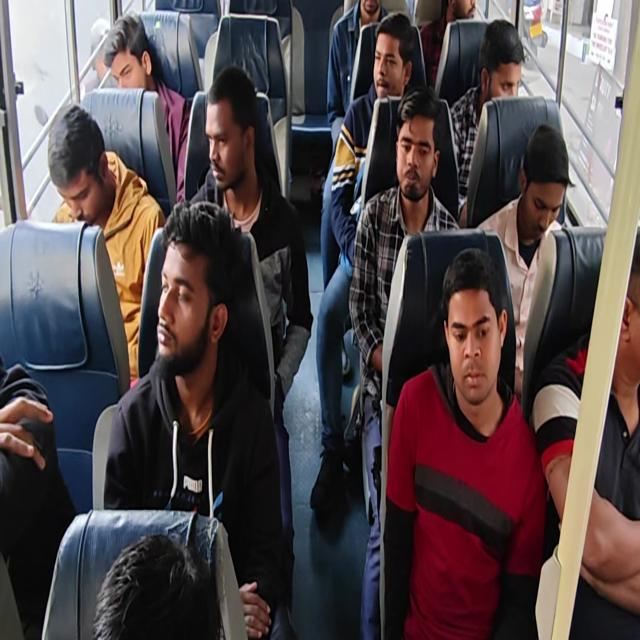person: (2, 1, 638, 638), (102, 199, 286, 638), (186, 66, 313, 616), (380, 246, 547, 638), (348, 85, 460, 637), (310, 10, 418, 515), (531, 226, 639, 638), (47, 104, 166, 386), (475, 122, 575, 401), (329, 10, 417, 266), (0, 354, 76, 638), (102, 10, 191, 204), (449, 18, 525, 226), (91, 532, 224, 639), (326, 0, 388, 154), (419, 0, 476, 89), (80, 18, 116, 97)
